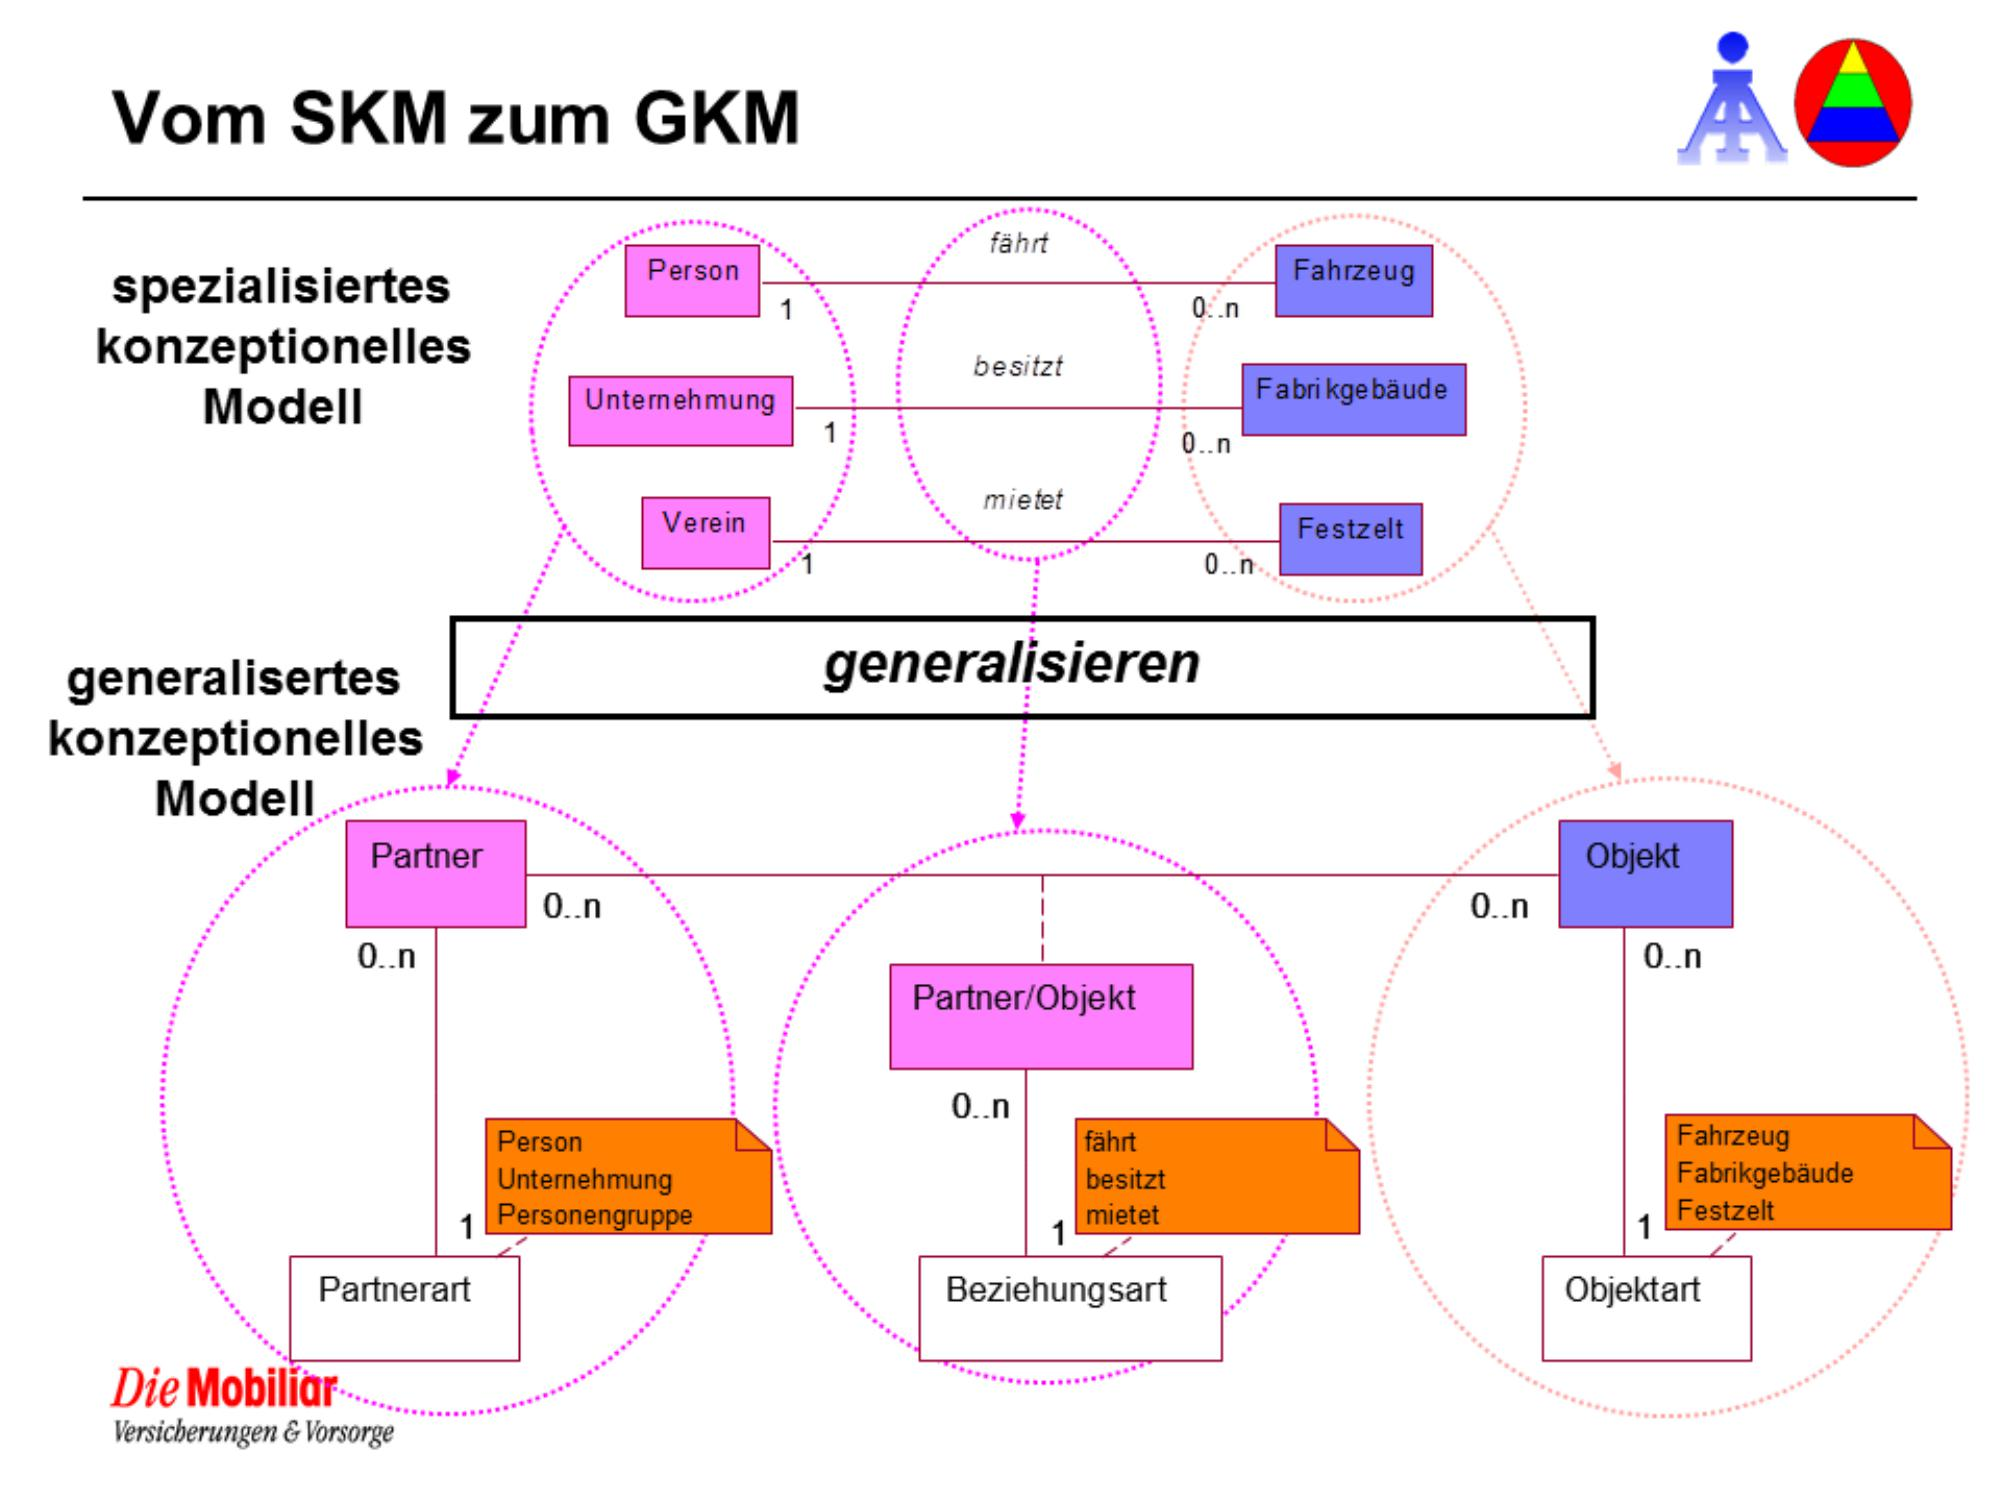Title: (98, 65, 811, 173)
